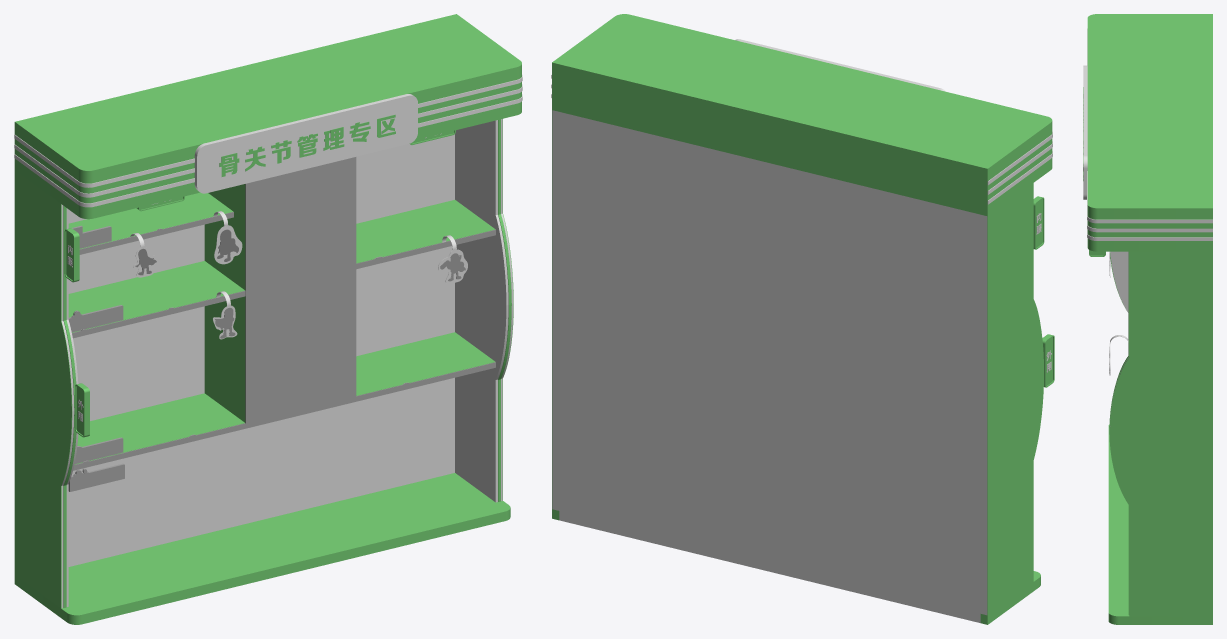
The model's file is guge.FBX.
3 views of the same model, side by side, from view 1: azimuth 30°, elevation 25°; view 2: azimuth 150°, elevation 25°; view 3: azimuth 270°, elevation 25° (orthographic). The views are drawn at different scales.
Visible parts, largest first — view 1: Rectangle062, polySurface3, Rectangle017, Rectangle053, Shape021, Text001, Shape004, Shape005, Shape002; view 2: polySurface3, Rectangle062, Rectangle053; view 3: Rectangle062, Rectangle053, polySurface3.
Part boxes in pixels (x1=…): Rectangle062: x1=14, y1=14, x2=521, y2=624; polySurface3: x1=61, y1=119, x2=513, y2=608; Rectangle017: x1=245, y1=157, x2=356, y2=423; Rectangle053: x1=14, y1=74, x2=522, y2=207; Shape021: x1=72, y1=212, x2=495, y2=470; Text001: x1=219, y1=114, x2=395, y2=176; Shape004: x1=68, y1=463, x2=124, y2=491; Shape005: x1=68, y1=305, x2=123, y2=332; Shape002: x1=74, y1=437, x2=123, y2=463; polySurface3: x1=552, y1=110, x2=1051, y2=622; Rectangle062: x1=552, y1=14, x2=1054, y2=624; Rectangle053: x1=551, y1=39, x2=1052, y2=204; Rectangle062: x1=1087, y1=14, x2=1212, y2=624; Rectangle053: x1=1083, y1=28, x2=1212, y2=240; polySurface3: x1=1109, y1=251, x2=1129, y2=426.
Bounding box in the file's own units: 221 × 220 × 62.2.
